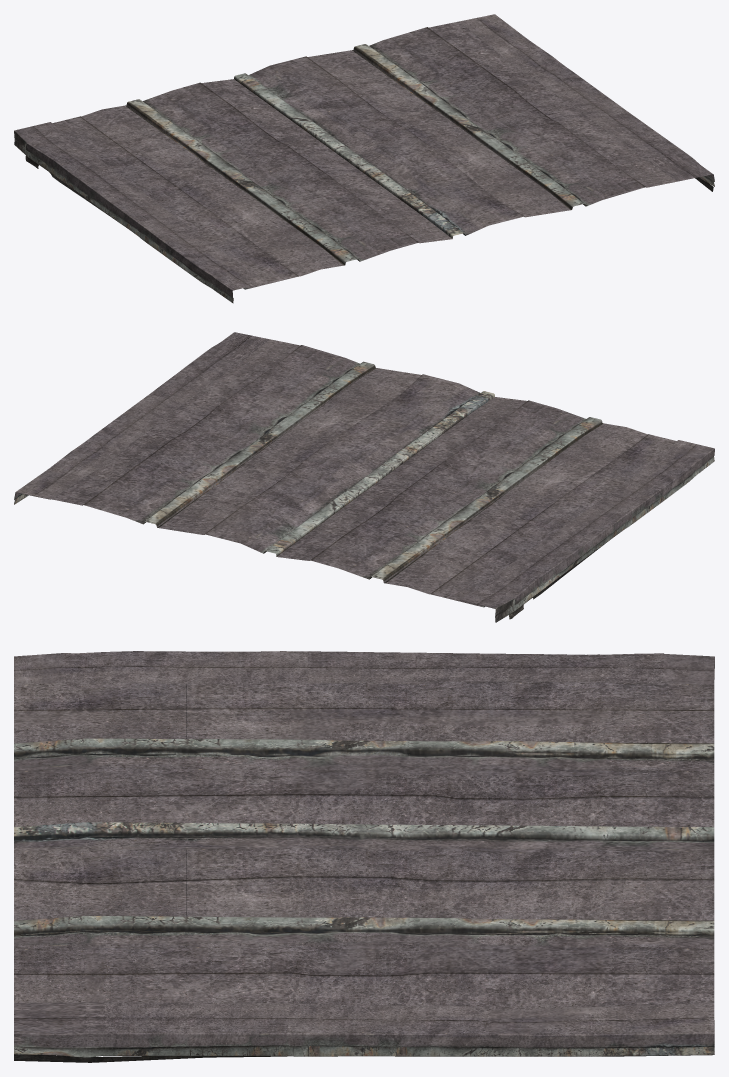
3 renders of one model, top to bottom at view 1: azimuth 30°, elevation 25°; view 2: azimuth 150°, elevation 25°; view 3: azimuth 270°, elevation 25°, orthographic. The views are drawn at different scales.
Visible parts, largest first — view 1: sm_GarageRoof_01_01_LOD0; view 2: sm_GarageRoof_01_01_LOD0; view 3: sm_GarageRoof_01_01_LOD0.
Boxes of the visible parts, bbox=[...] form: sm_GarageRoof_01_01_LOD0: bbox=[14, 14, 714, 303]; sm_GarageRoof_01_01_LOD0: bbox=[14, 332, 714, 622]; sm_GarageRoof_01_01_LOD0: bbox=[14, 651, 714, 1062].
Bounding box in the file's own units: 561 × 723 × 35.08.
